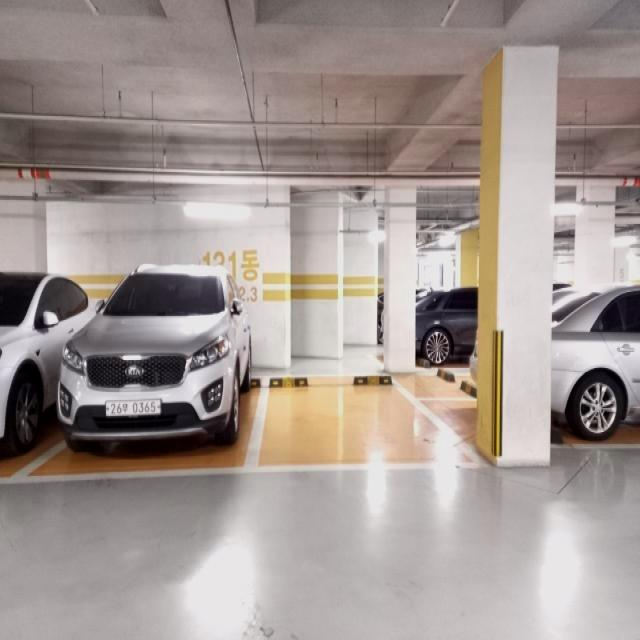car: (60, 263, 249, 464)
free: (266, 373, 444, 481)
